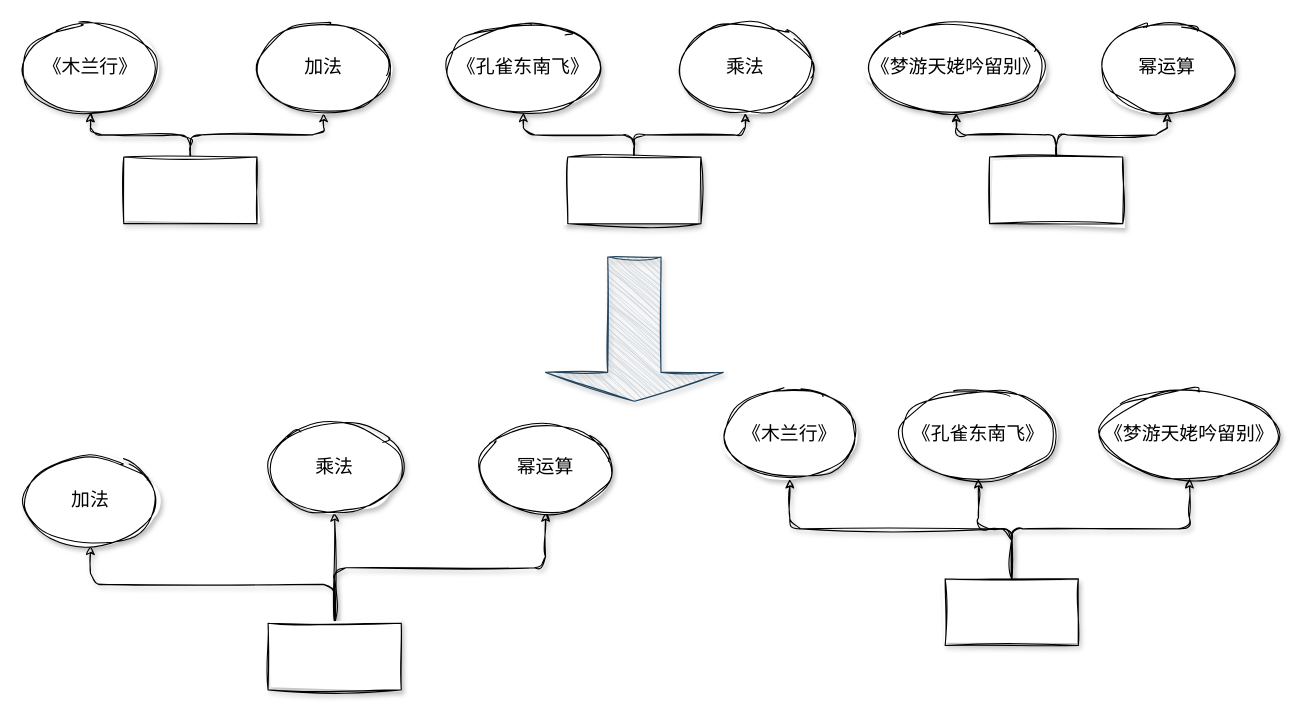
This 1304x717 diagram has some shape labels left out. Here are the shapes that lost their labels. From the top down, the centre of each, then its label:
At (191,191): "monday".
At (635,191): "tuesday".
At (1056,191): "wedsday".
At (1012,613): "语文".
At (335,658): "数学".
